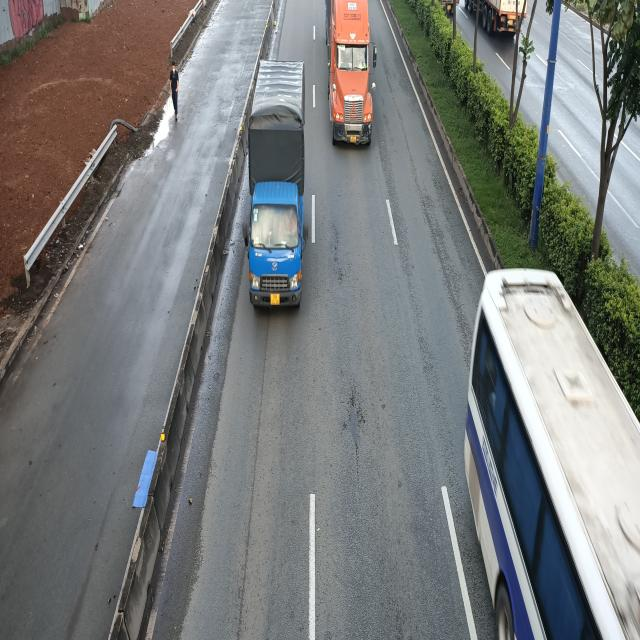coach: (465, 269, 640, 640)
container: (328, 2, 378, 149)
truck: (244, 59, 309, 311)
